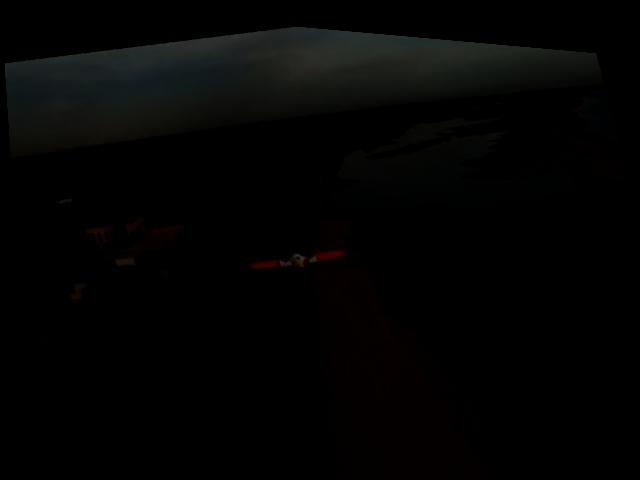uav: (227, 224, 364, 289)
